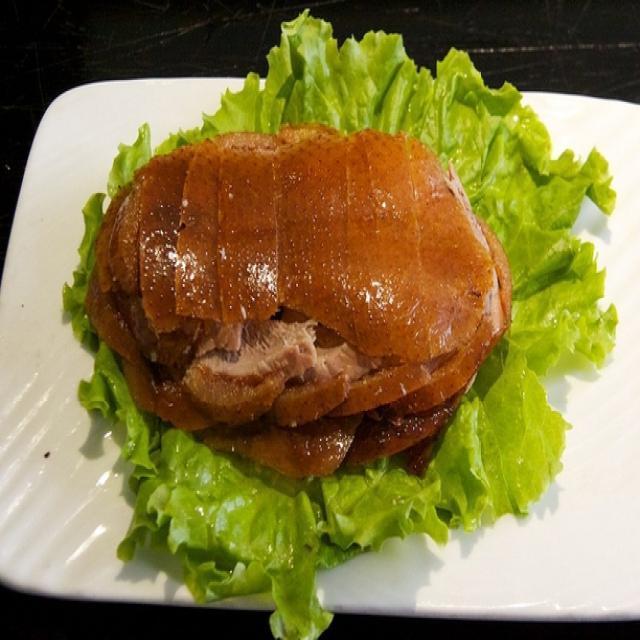烧串烤肉: (31, 55, 612, 623)
